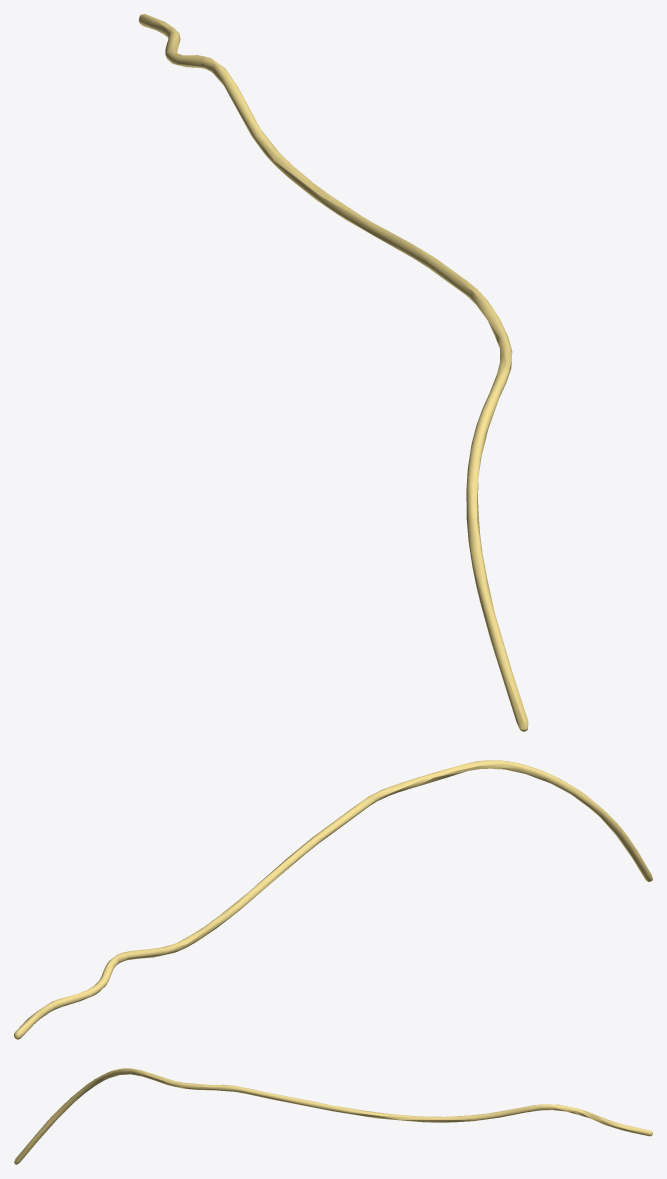
Rendered from fma52670_fj1310.glb.
3 views of the same model, one above another, from view 1: azimuth 30°, elevation 25°; view 2: azimuth 150°, elevation 25°; view 3: azimuth 270°, elevation 25° (orthographic). The views are drawn at different scales.
Visible parts, largest first — view 1: FMA52670_FJ1310; view 2: FMA52670_FJ1310; view 3: FMA52670_FJ1310.
Boxes of the visible parts, box(x1,y1,x2,y2) form: FMA52670_FJ1310: box(138, 14, 528, 731); FMA52670_FJ1310: box(14, 760, 652, 1039); FMA52670_FJ1310: box(14, 1068, 652, 1164).
Size of the model in its own units: 0.0178 by 0.0155 by 0.0747.
